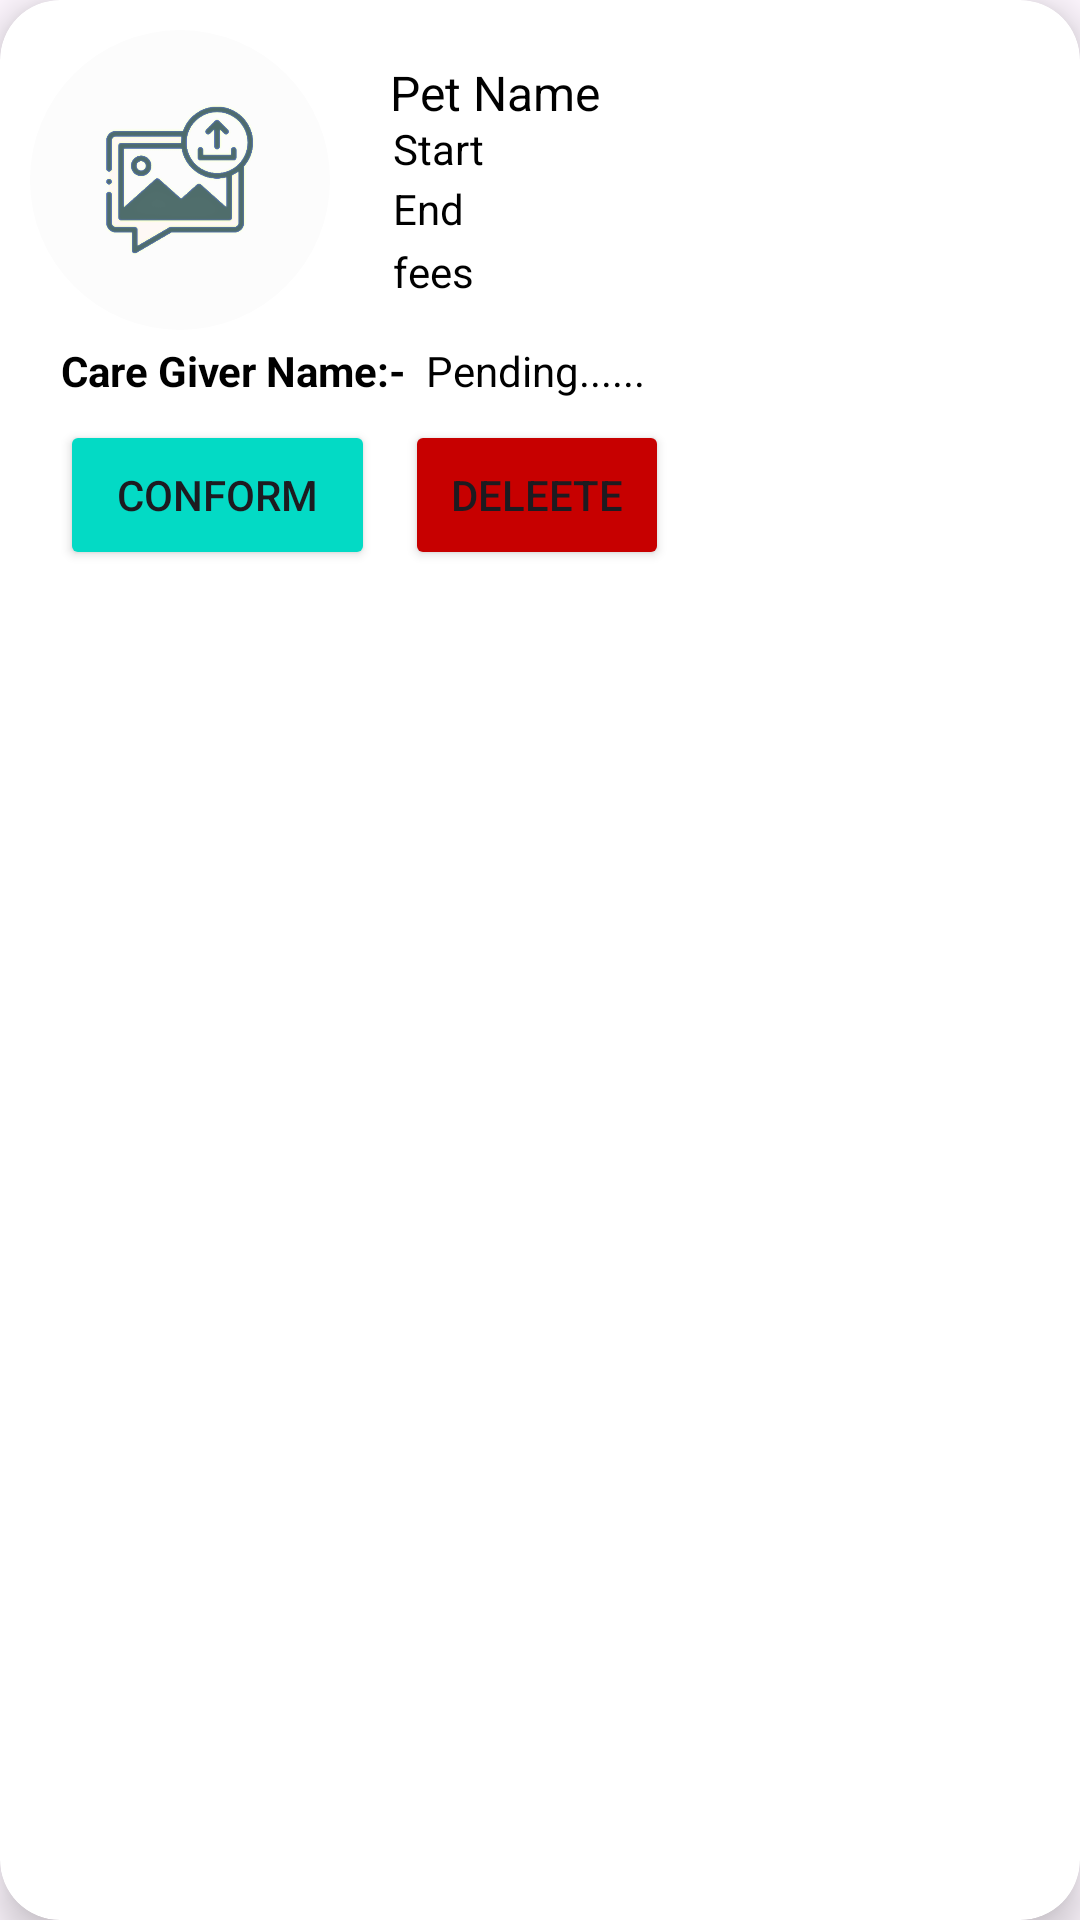

Where to tap for icons on this 1080×1920 app screen, as (x=x, y=y):
uploadimg: (x=180, y=180)
